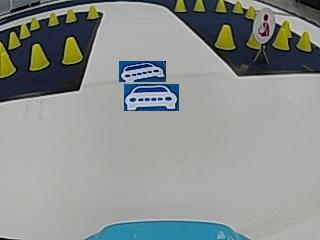cone: (61, 37, 82, 65), (28, 43, 49, 70), (215, 24, 236, 50), (0, 42, 15, 76), (273, 24, 289, 49), (297, 31, 311, 51), (8, 30, 20, 48), (86, 5, 99, 20), (65, 8, 77, 22), (244, 5, 256, 19), (19, 23, 30, 38), (173, 0, 186, 12), (48, 12, 59, 26), (30, 16, 40, 30), (193, 1, 205, 12), (232, 1, 243, 13), (215, 1, 226, 12)
patient: (255, 9, 272, 41)
